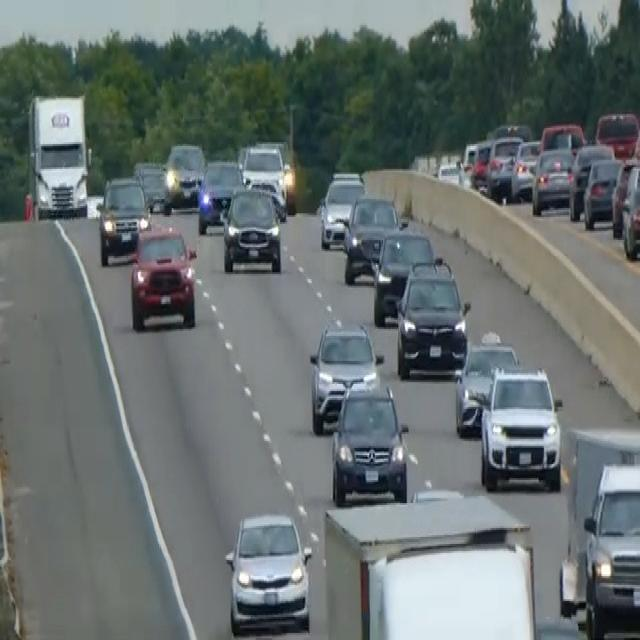car: (224, 508, 312, 634), (479, 364, 563, 490), (329, 379, 409, 505), (394, 260, 470, 378), (308, 318, 382, 434), (129, 222, 198, 331), (454, 331, 519, 437), (371, 228, 434, 326), (341, 192, 404, 284), (221, 183, 282, 274), (96, 172, 151, 265), (240, 140, 288, 217), (568, 140, 614, 220), (196, 156, 243, 233), (319, 171, 364, 249), (531, 144, 574, 215), (582, 155, 622, 229), (163, 140, 205, 207), (485, 132, 522, 198), (594, 108, 639, 158), (132, 158, 171, 214), (620, 162, 639, 260), (511, 137, 541, 199), (459, 137, 492, 187), (539, 121, 585, 153)
lorry: (26, 89, 92, 220)
truck: (582, 458, 639, 636)
